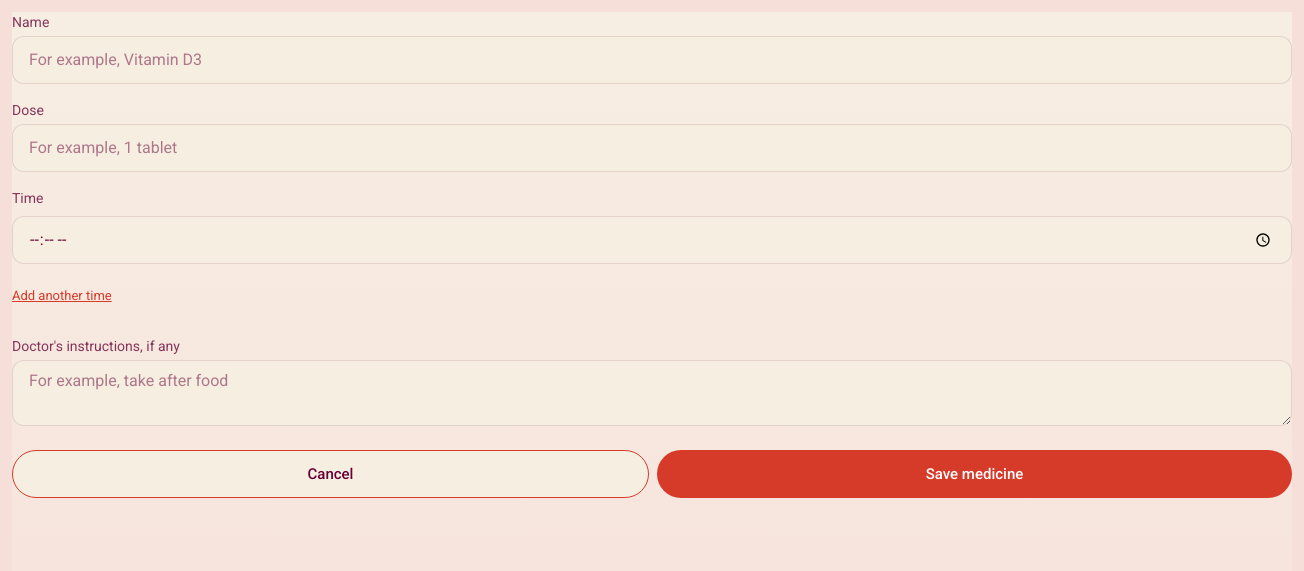
Test: MedicineForm › adds a time row
The width and height of the screenshot is (1304, 571).
Step 1. Click the button "Add another time" → click(62, 296), box [12,272,112,320]
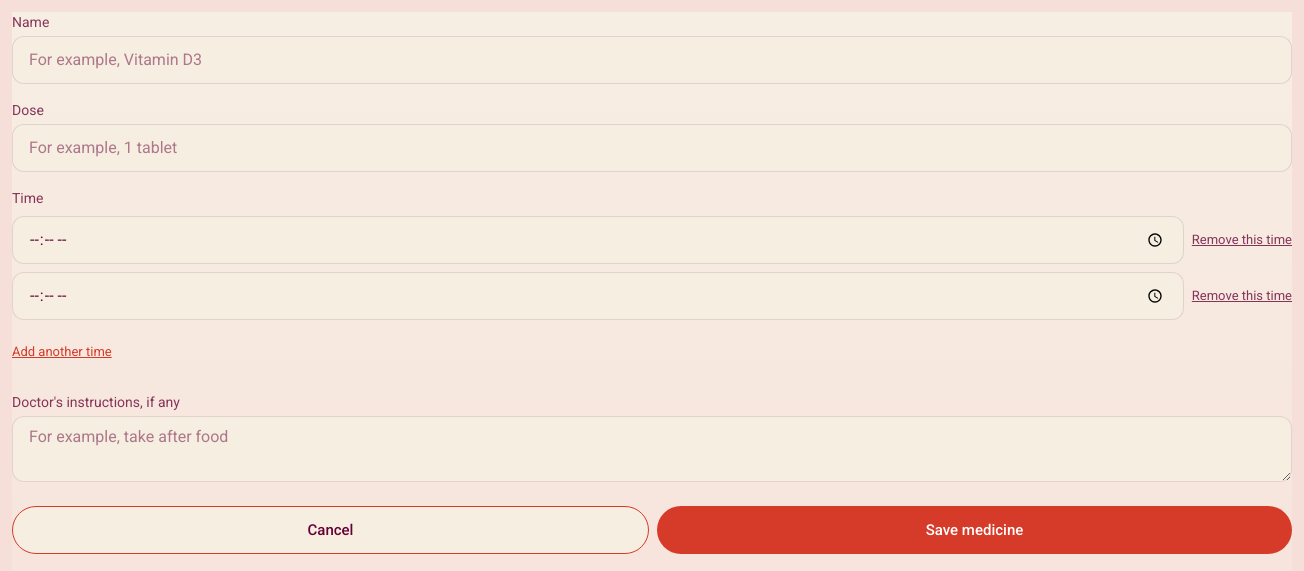
Expected: the number of time fields is 2, [12,216,1184,264]; [12,272,1184,320]
